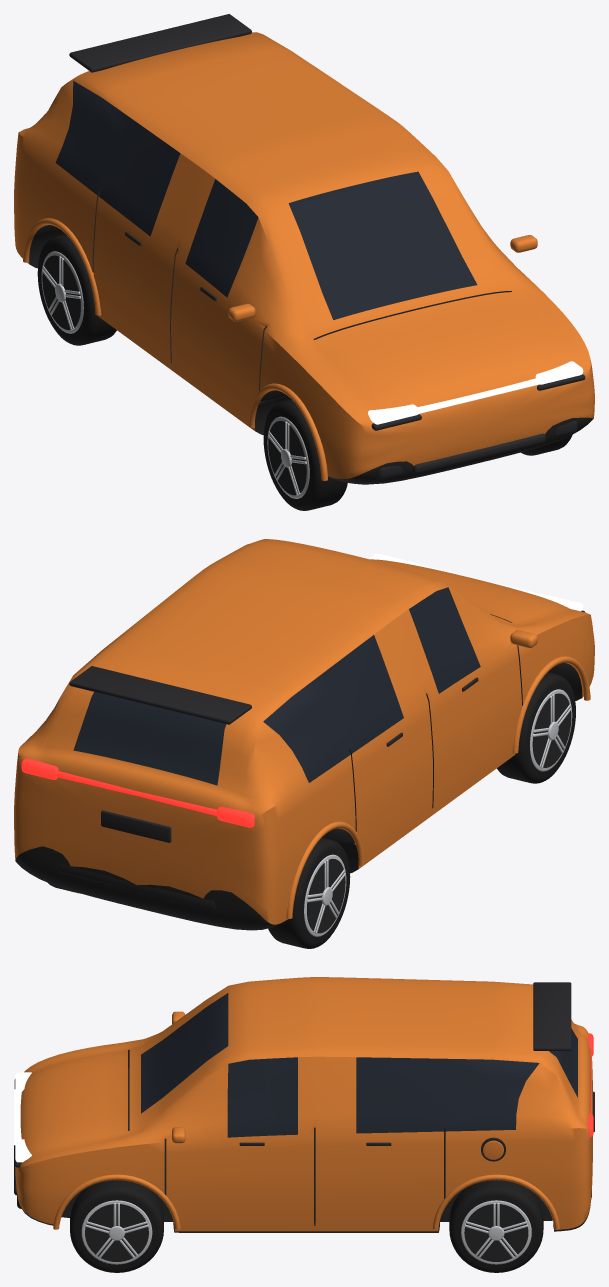
The model's file is hatch.glb.
3 renders of one model, top to bottom at view 1: azimuth 30°, elevation 25°; view 2: azimuth 150°, elevation 25°; view 3: azimuth 270°, elevation 25°, orthographic. The views are drawn at different scales.
Parts seen in each view (by area): view 1: hatch; view 2: hatch; view 3: hatch.
Part boxes in pixels (box(x1,y1,x2,y2)): hatch: box(14, 14, 594, 510); hatch: box(14, 539, 594, 948); hatch: box(14, 977, 594, 1272).
Bounding box in the file's own units: 2.01 × 1.59 × 3.95.
